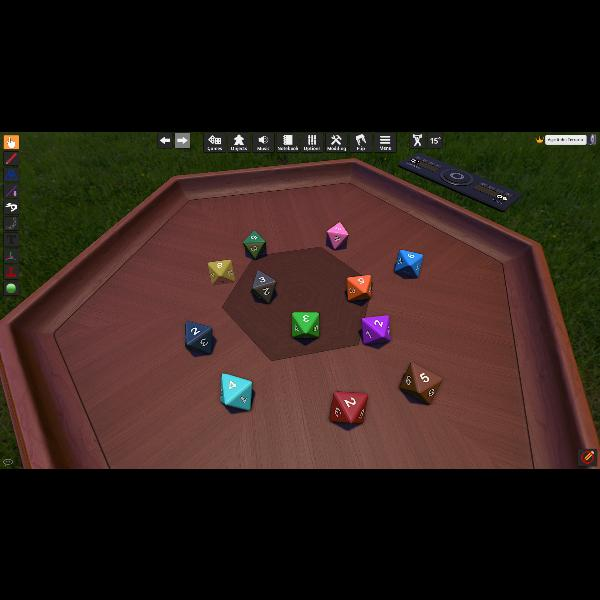d8: (400, 361, 442, 403), (329, 390, 365, 424), (221, 371, 253, 409), (251, 269, 277, 303), (186, 320, 212, 354), (362, 314, 390, 344), (292, 311, 320, 338), (394, 250, 420, 278), (208, 258, 234, 284), (244, 230, 266, 260), (347, 275, 371, 301), (326, 222, 347, 248)
